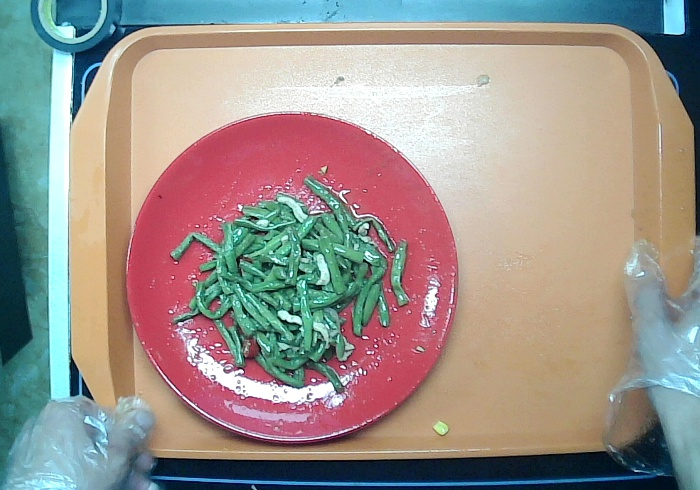HZYJPL-Hong_Se_Yuan_Pan: (124, 105, 457, 444)
